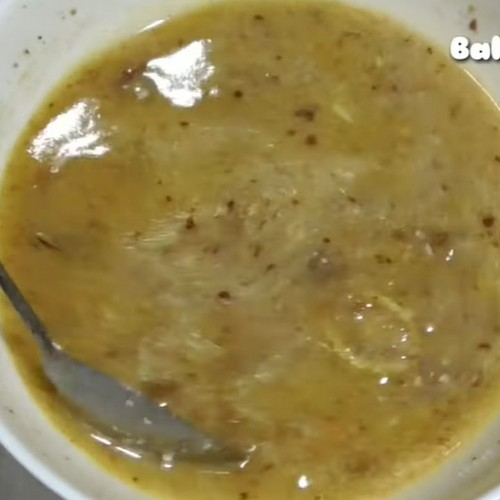komoh: (63, 7, 444, 372)
